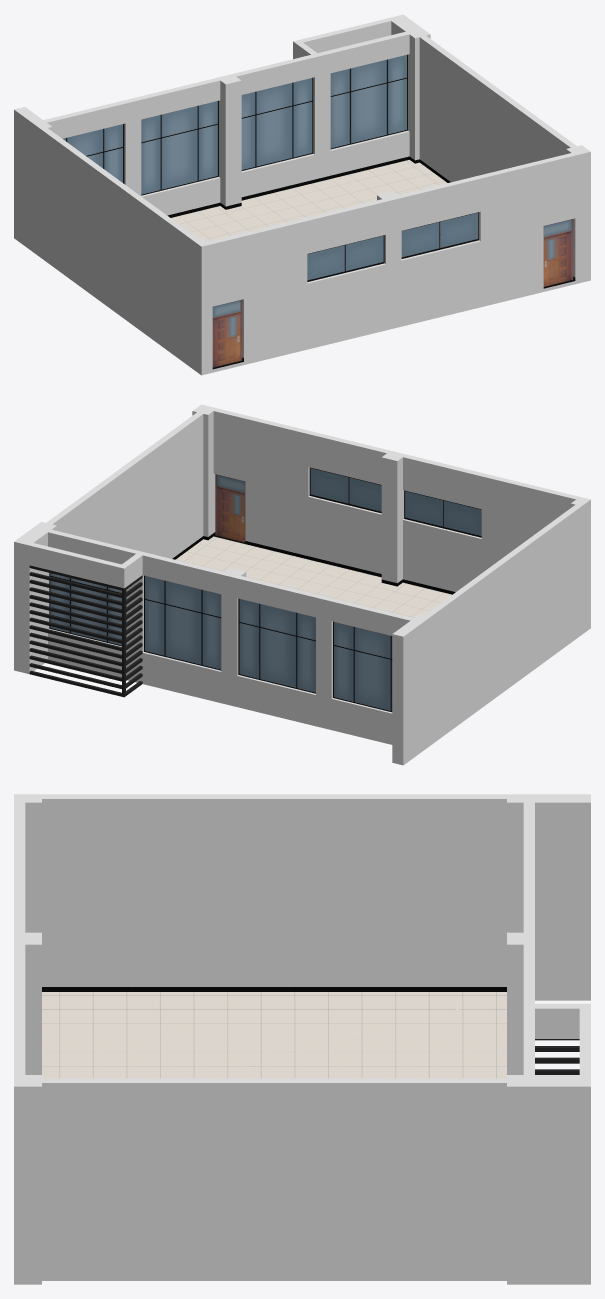
The picture shows the model from 3 angles, top to bottom: view 1: azimuth 30°, elevation 25°; view 2: azimuth 150°, elevation 25°; view 3: azimuth 270°, elevation 25°; orthographic projection. The views are drawn at different scales.
Parts seen in each view (by area): view 1: 310-312; view 2: 310-312; view 3: 310-312.
Part boxes in pixels (x1,y1,x2,y2): 310-312: (14, 14, 590, 375); 310-312: (14, 404, 590, 765); 310-312: (14, 794, 590, 1284).
Bounding box in the file's own units: 12.35 × 3.9 × 10.3.
7 materials, 7 textured.
